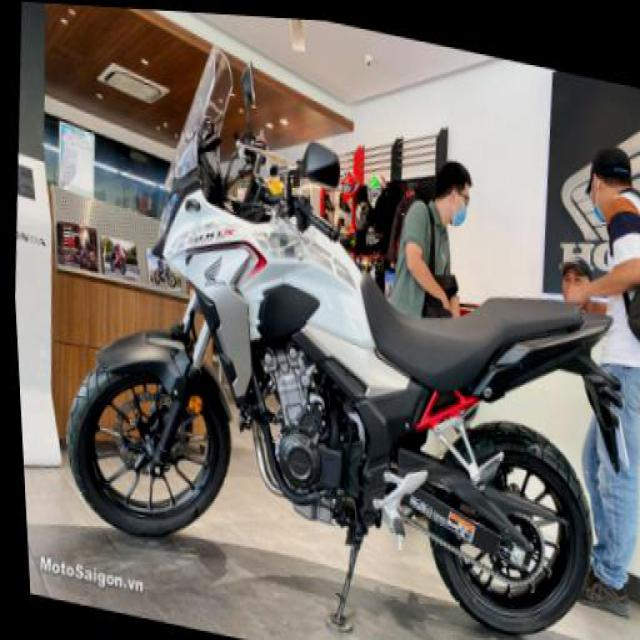CB500X: (33, 13, 628, 638)
